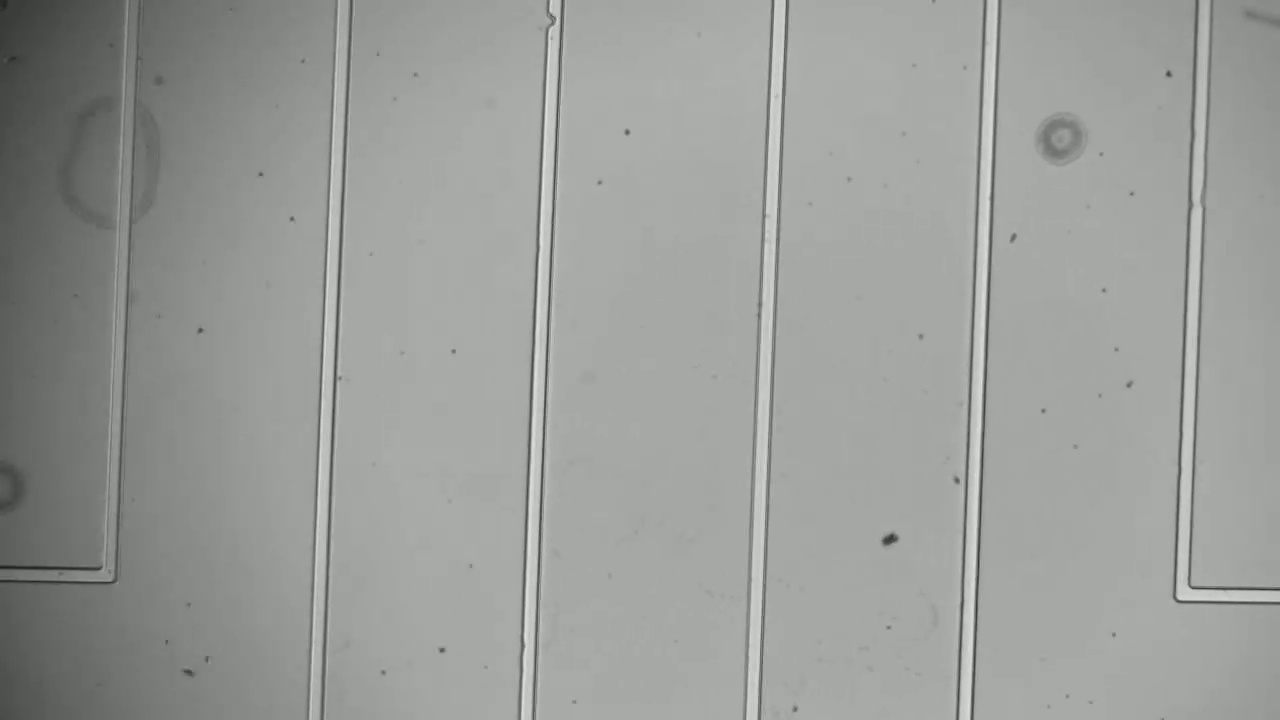edge_bite: (541, 4, 568, 33)
